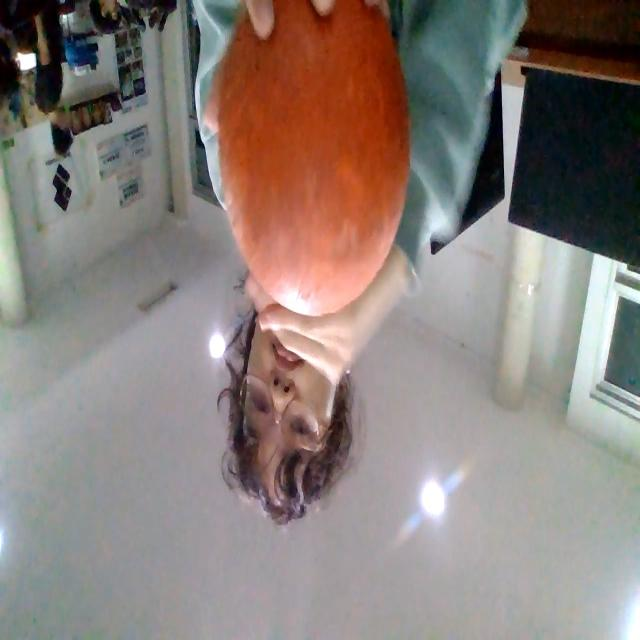ball: (217, 2, 411, 318)
